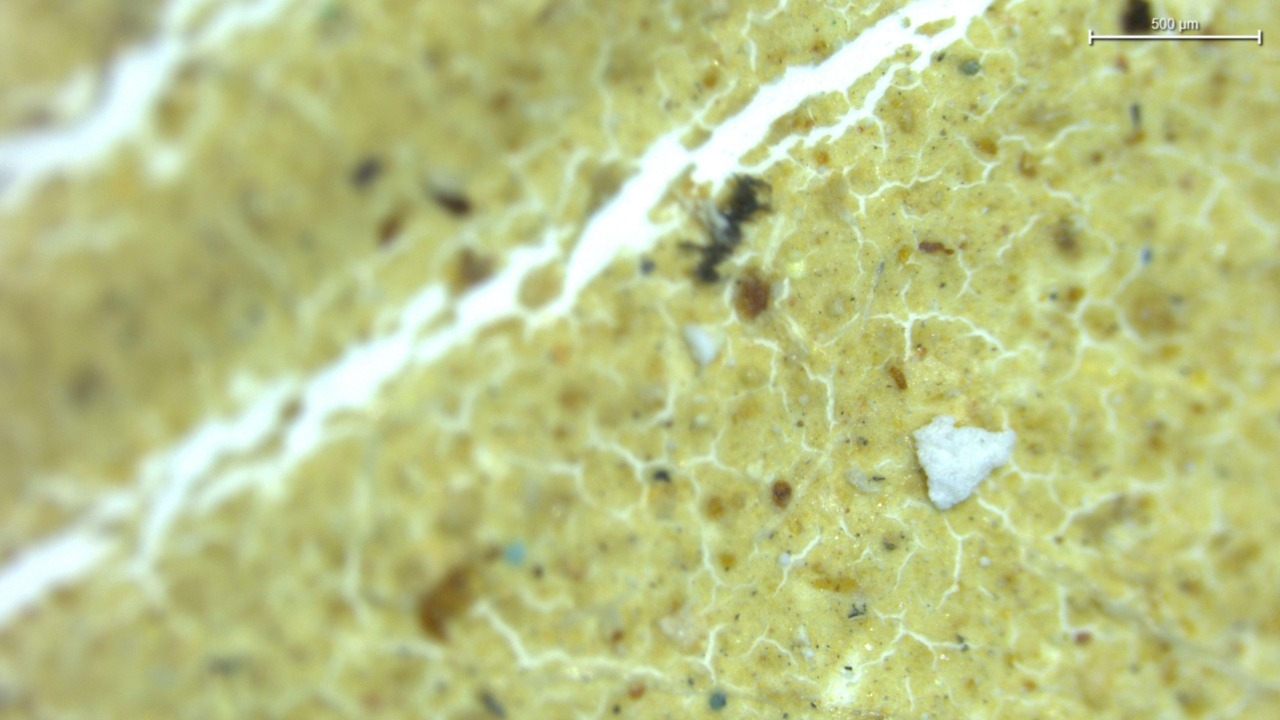microplastic_fragment: (914, 415, 1015, 510), (683, 325, 722, 370)
